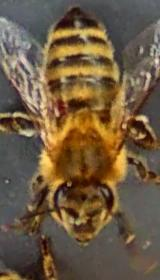varroa_mite: (48, 98, 70, 120)
